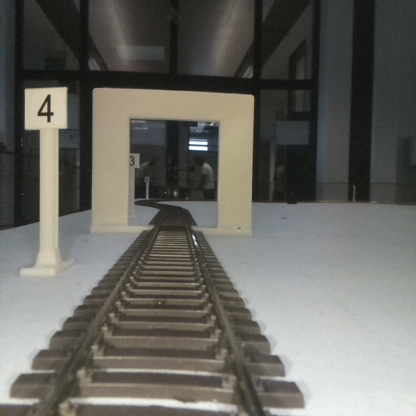white-info-4: (25, 86, 66, 274)
